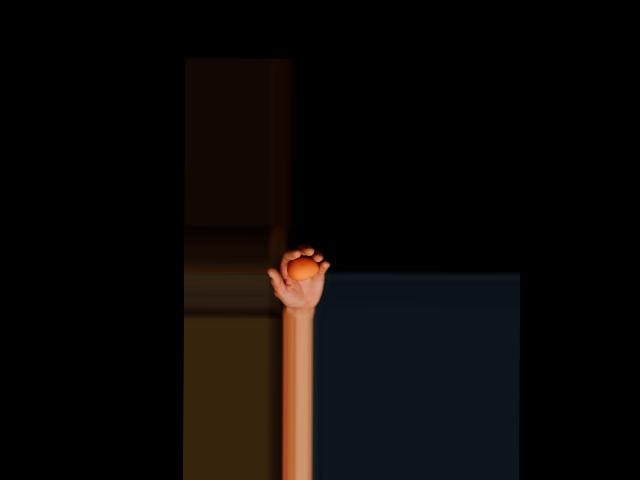egg: (287, 257, 319, 280)
